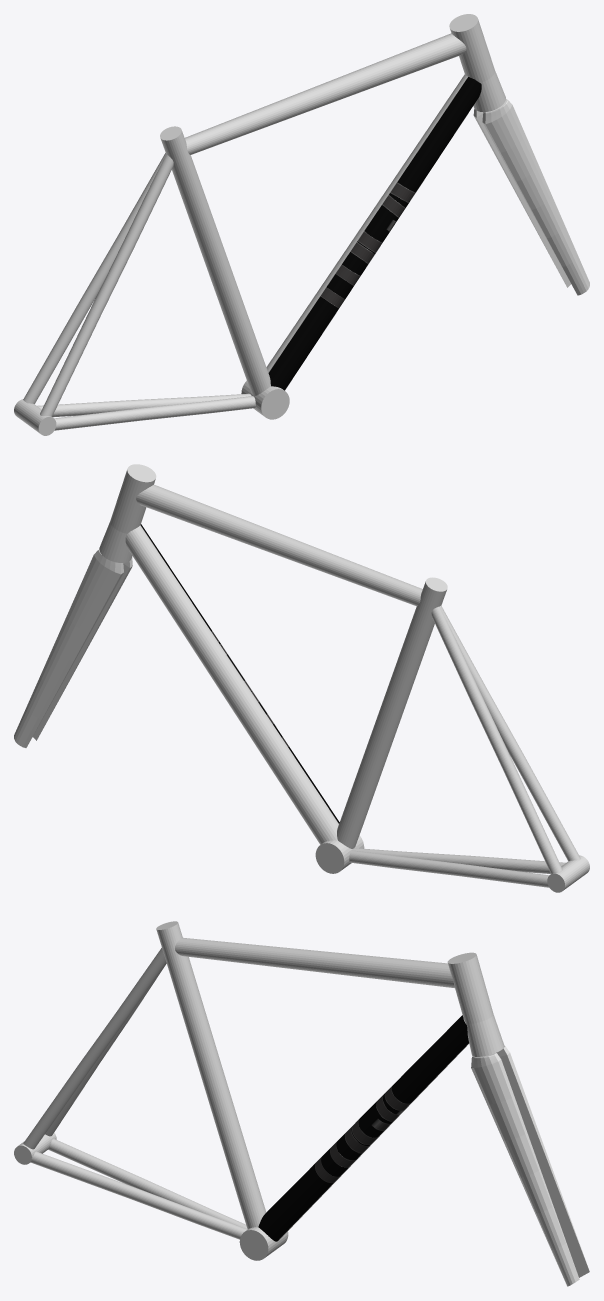
File: bikeframe_new_uv.glb
The picture shows the model from 3 angles, top to bottom: view 1: azimuth 30°, elevation 25°; view 2: azimuth 150°, elevation 25°; view 3: azimuth 330°, elevation 25°; orthographic projection.
Parts seen in each view (by area): view 1: FRAME, DOWN_TUBE_RIGHT, FORK, DOWN_TUBE; view 2: FRAME, DOWN_TUBE, FORK, DOWN_TUBE_RIGHT; view 3: FRAME, FORK, DOWN_TUBE_RIGHT.
Boxes of the visible parts, x1,y1,x2,y2 form: FRAME: [14, 14, 505, 435]; DOWN_TUBE_RIGHT: [268, 77, 481, 390]; FORK: [473, 99, 589, 295]; DOWN_TUBE: [266, 74, 467, 372]; FRAME: [99, 464, 589, 892]; DOWN_TUBE: [125, 525, 338, 844]; FORK: [14, 549, 132, 747]; DOWN_TUBE_RIGHT: [140, 524, 339, 823]; FRAME: [14, 921, 504, 1260]; FORK: [471, 1046, 589, 1286]; DOWN_TUBE_RIGHT: [258, 1015, 468, 1241].
Size of the model in its own units: 8.31 by 4.93 by 0.6376.
3 materials, 1 textured.
